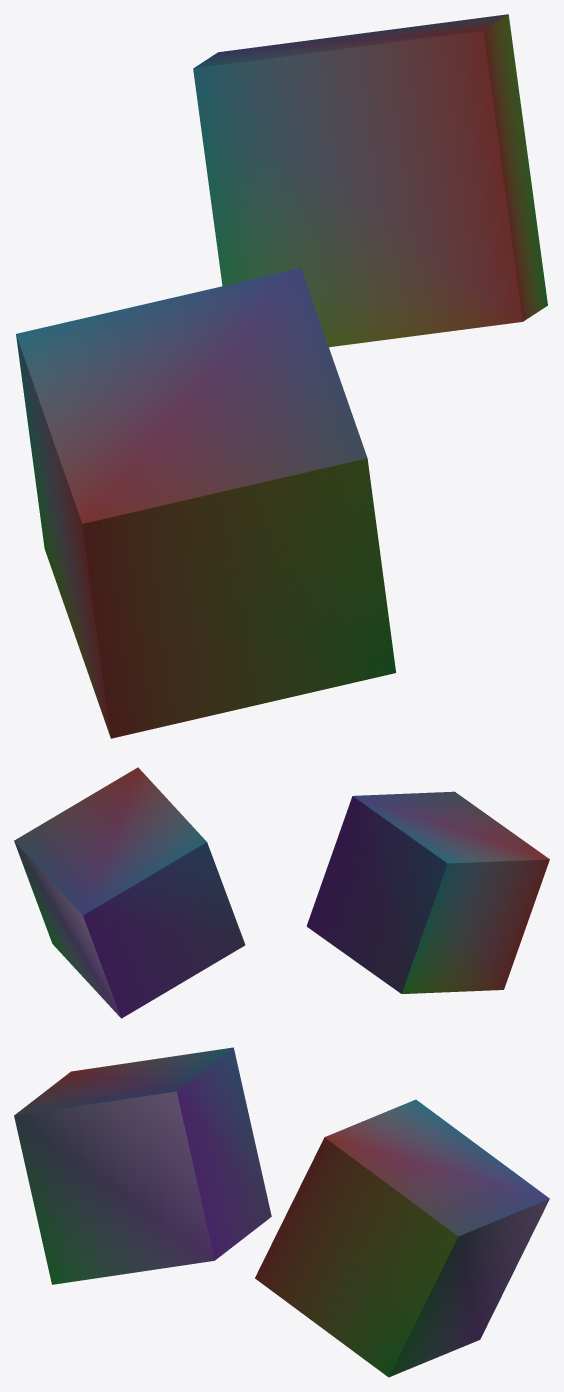
File: nla.fbx
3 views of the same model, one above another, from view 1: azimuth 30°, elevation 25°; view 2: azimuth 150°, elevation 25°; view 3: azimuth 270°, elevation 25° (orthographic). The views are drawn at different scales.
Visible parts, largest first — view 1: Cube2, Cube; view 2: Cube2, Cube; view 3: Cube, Cube2.
Part boxes in pixels (box(x1,y1,x2,y2)): Cube2: box(16, 268, 395, 738); Cube: box(193, 14, 547, 347); Cube2: box(306, 791, 549, 993); Cube: box(14, 767, 245, 1018); Cube: box(255, 1099, 549, 1377); Cube2: box(14, 1047, 271, 1284).
Bounding box in the file's own units: 5.88 × 3.32 × 6.07.
